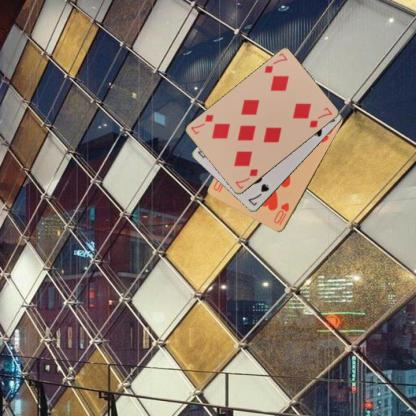10h: (271, 200, 291, 227)
7d: (233, 166, 259, 191), (262, 51, 289, 74)
7s: (246, 182, 270, 208)
